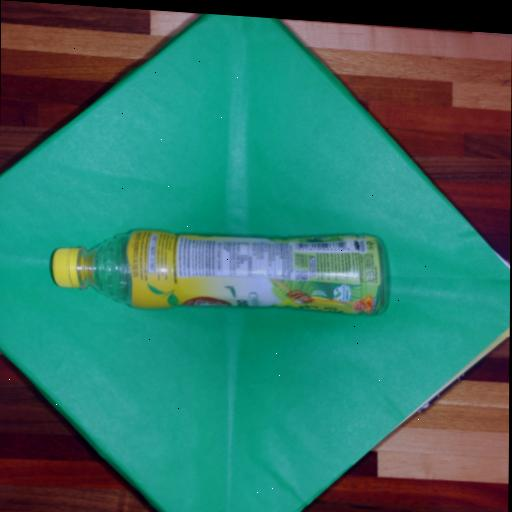bottle: (52, 229, 386, 313)
